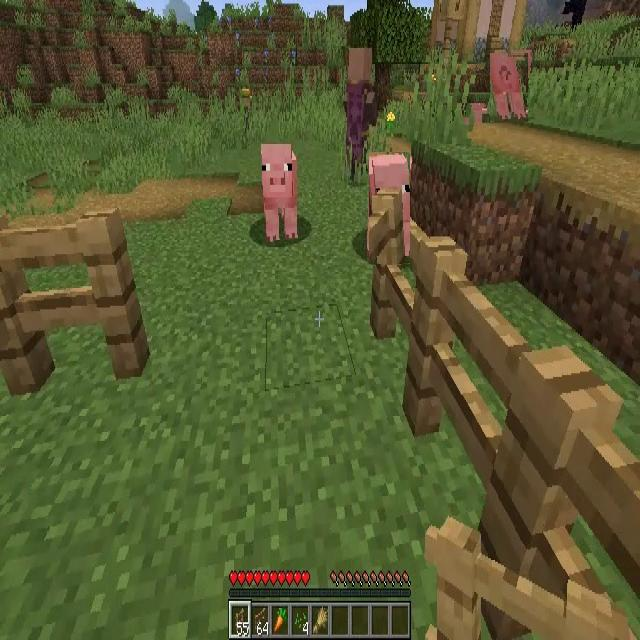people: (343, 48, 379, 183)
pig: (369, 153, 410, 264), (261, 143, 297, 238), (491, 53, 528, 122)
